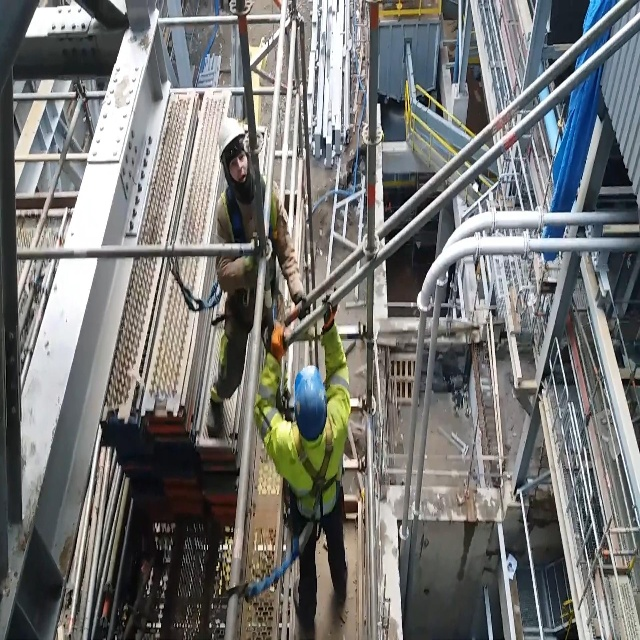Arnes_seguridad: (279, 407, 344, 547), (224, 176, 279, 311)
